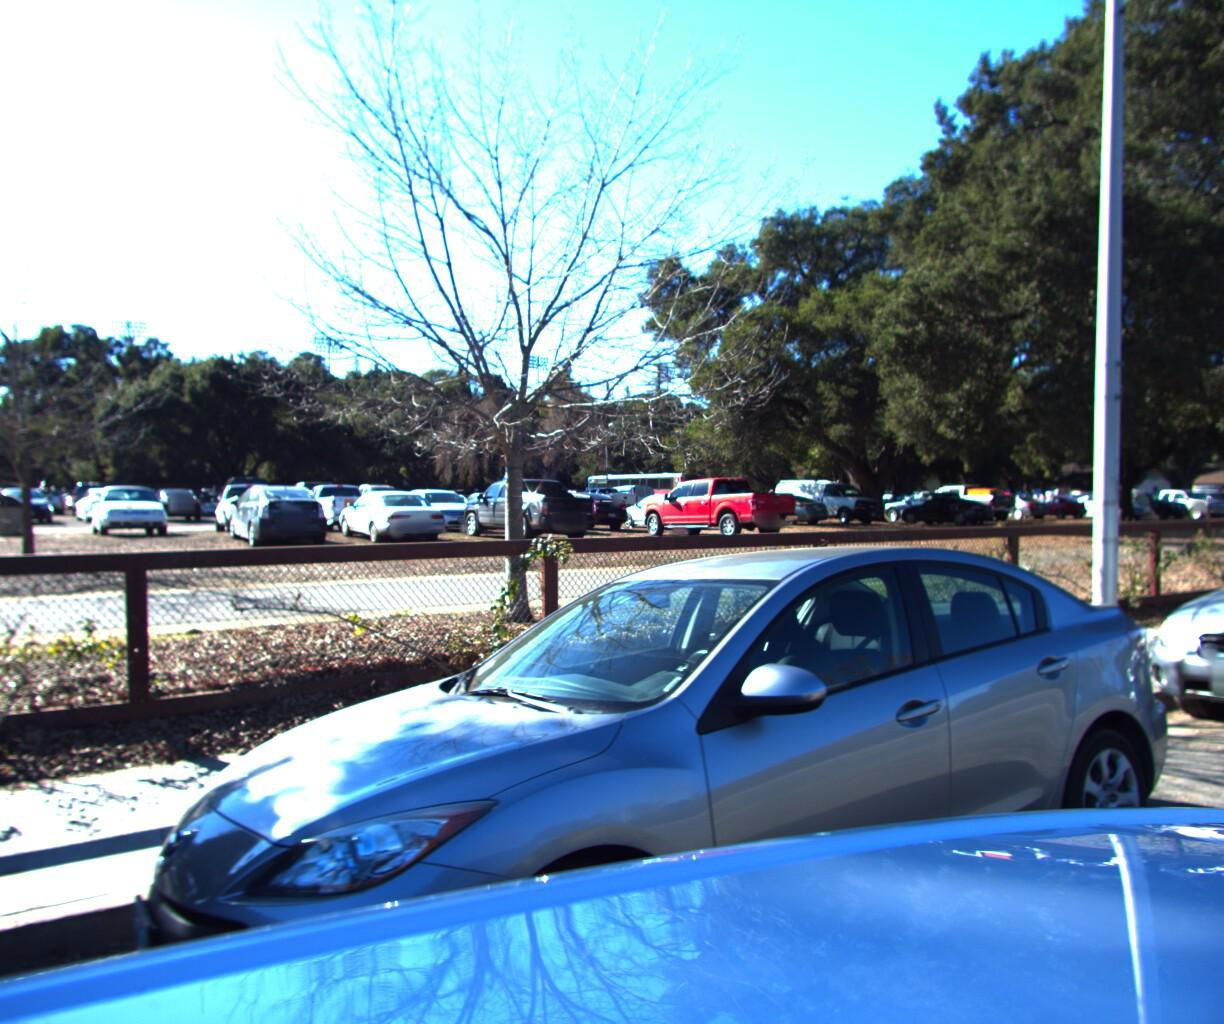car: (93, 521, 1224, 1024), (1120, 489, 1224, 789)
